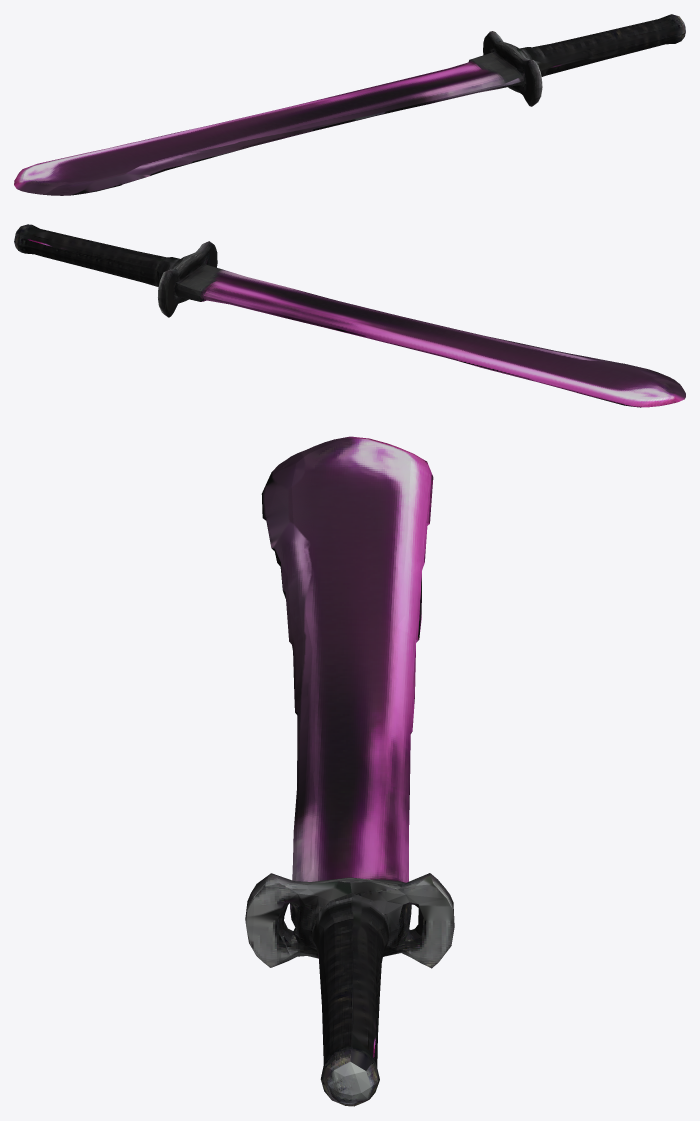
The model's file is nick_katana_comfyui.glb.
3 renders of one model, top to bottom at view 1: azimuth 30°, elevation 25°; view 2: azimuth 150°, elevation 25°; view 3: azimuth 270°, elevation 25°, orthographic. The views are drawn at different scales.
Size of the model in its own units: 0.9878 by 0.0664 by 0.1344.
1 material, 1 textured.
